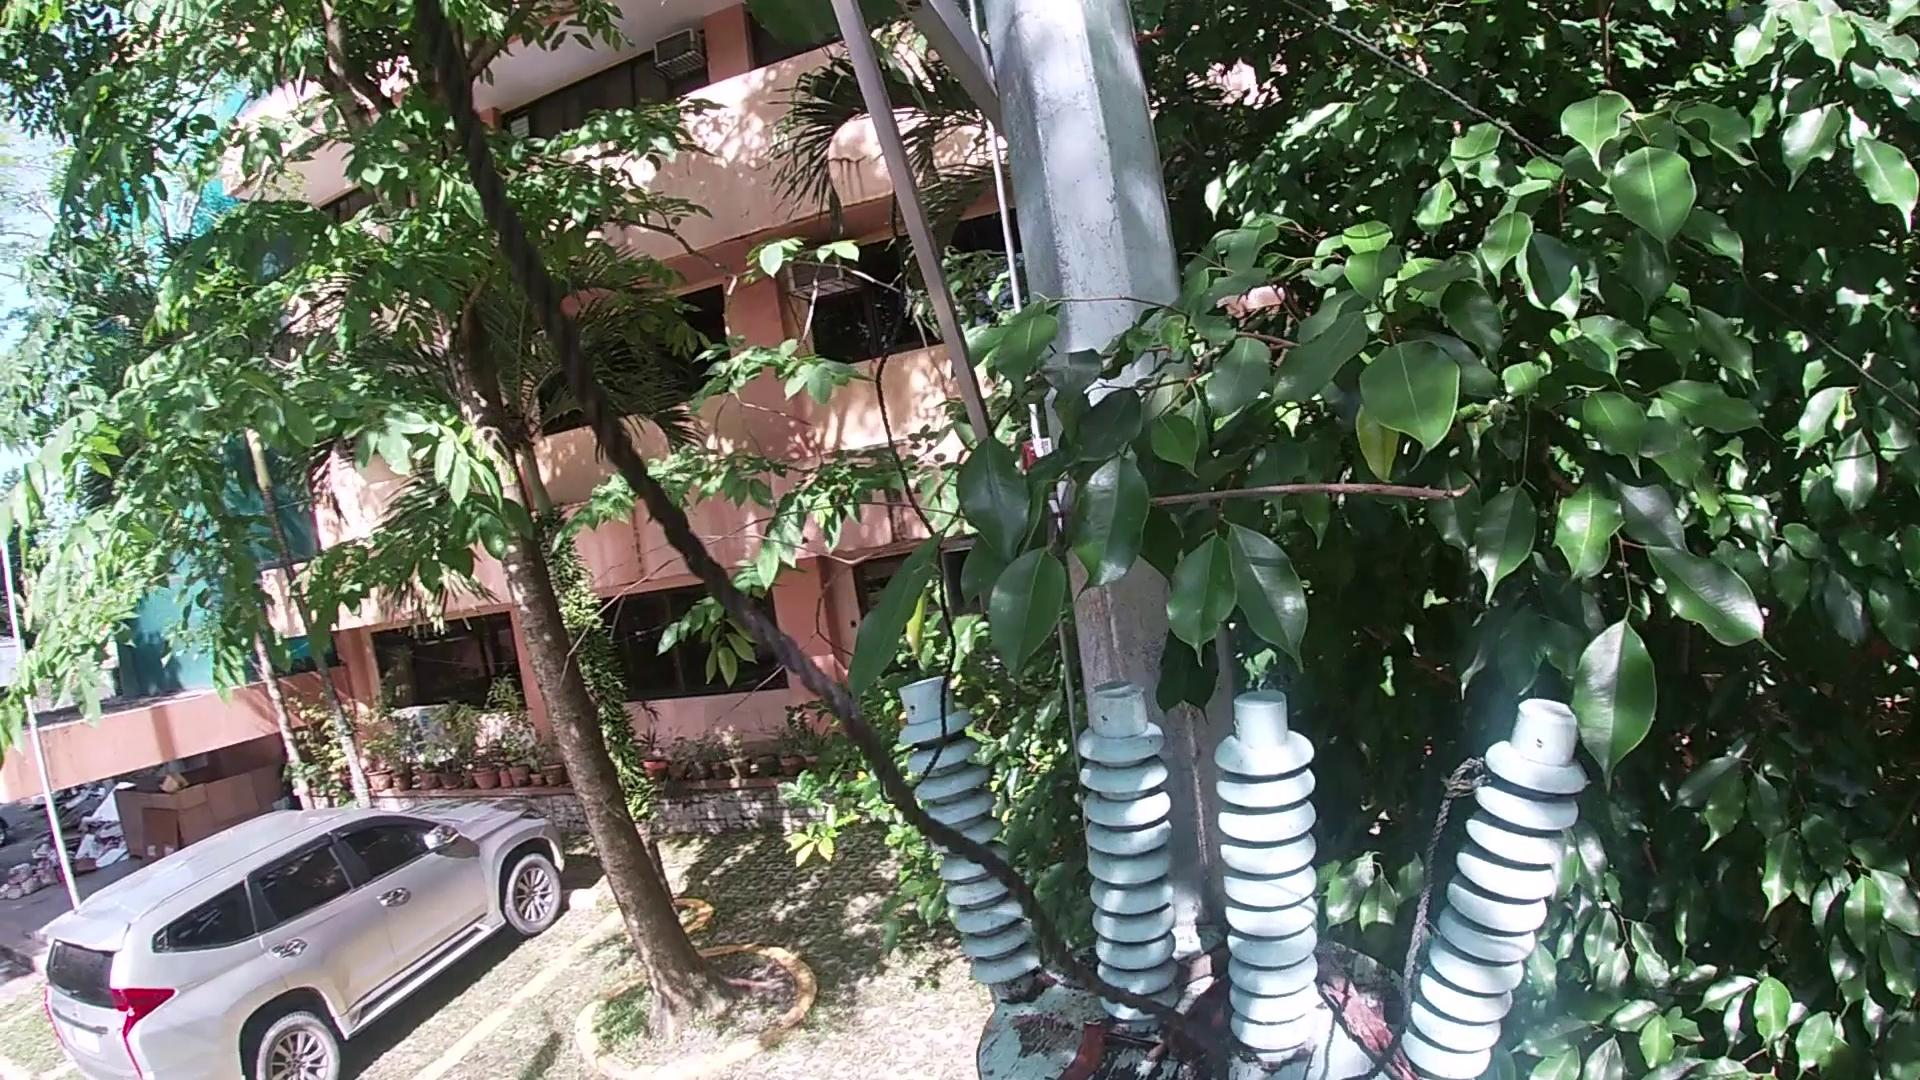mahogany fruit: (1163, 988, 1244, 1062), (1052, 1021, 1114, 1080)
tree branch: (525, 471, 1481, 783), (1313, 945, 1424, 1077), (1168, 945, 1236, 990)
